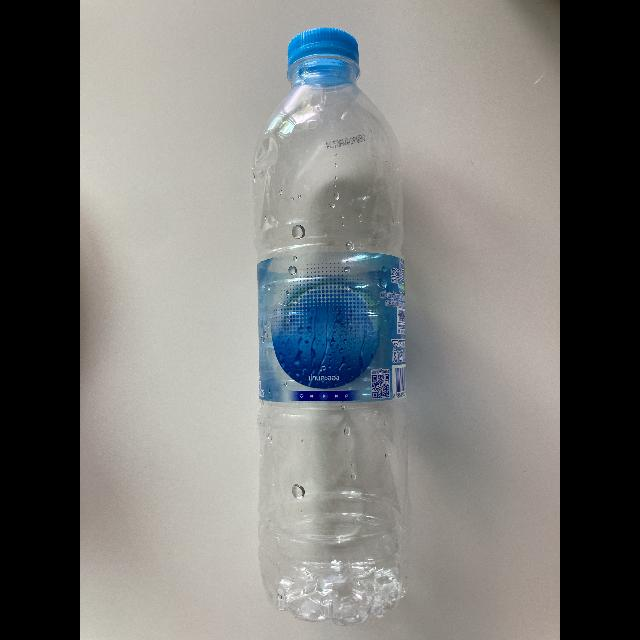plastic_bottle: (239, 19, 415, 628)
plastic_bottle_cap: (283, 22, 361, 84)
